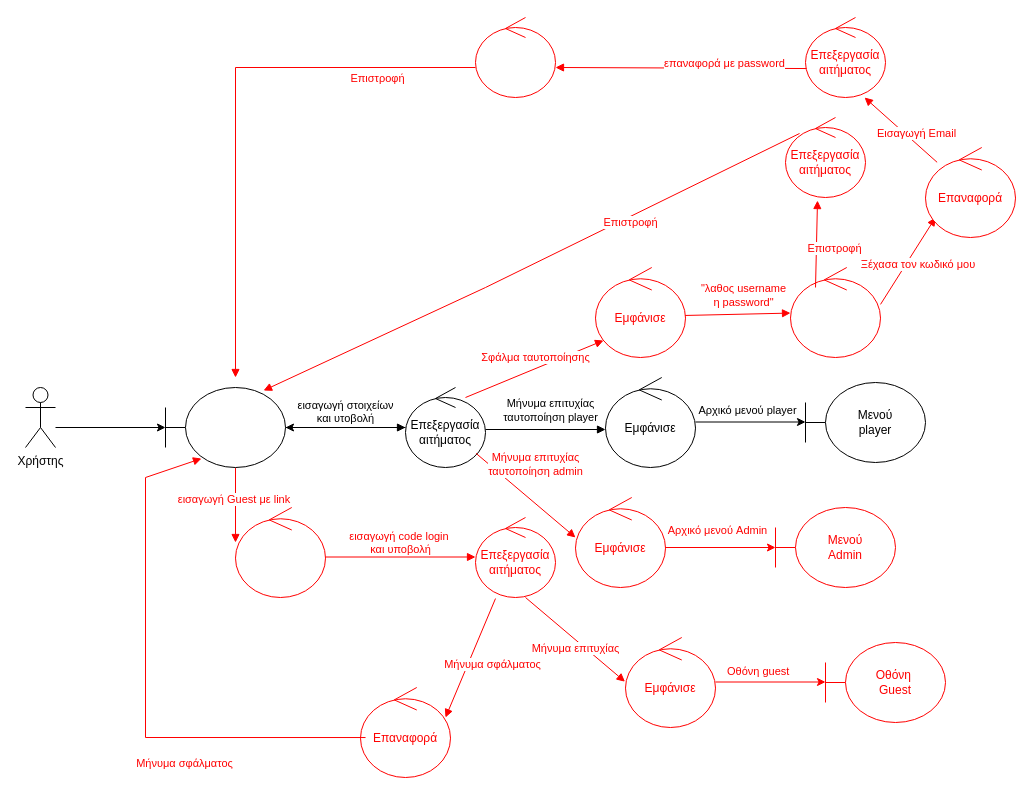
The diagram is 1033 pixels wide and 795 high, and some of its shapes have lost their labels. The centre of each missing label's shape, as x and y in pixels:
Code Login: the point at 280,552
Έλεγχος στοιχείων: the point at 515,57
Επέλεξε;: the point at 835,312
Σελίδα Log In: the point at 225,427
